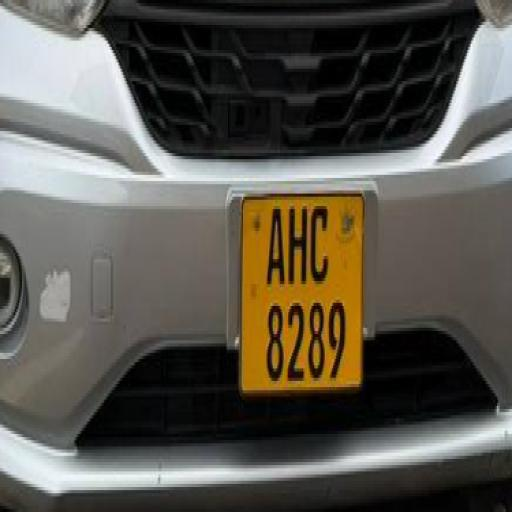number-plates: (245, 196, 355, 390)
